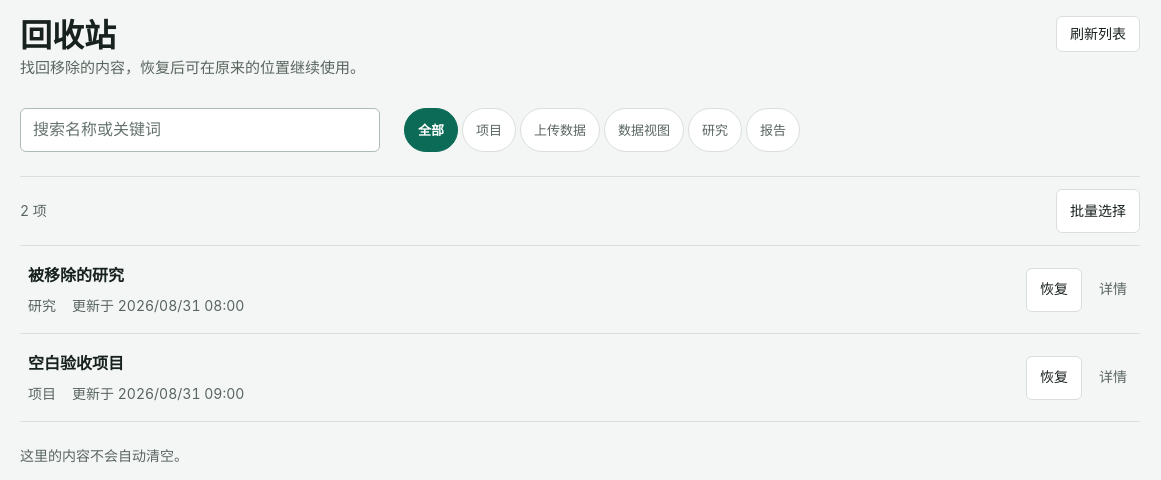
it: restores one exact record and keeps implementation detail out of the list
Step 1. Click the button "恢复" in the row of "2026/08/31 08:00" → [1054, 290], box [1026, 268, 1082, 312]
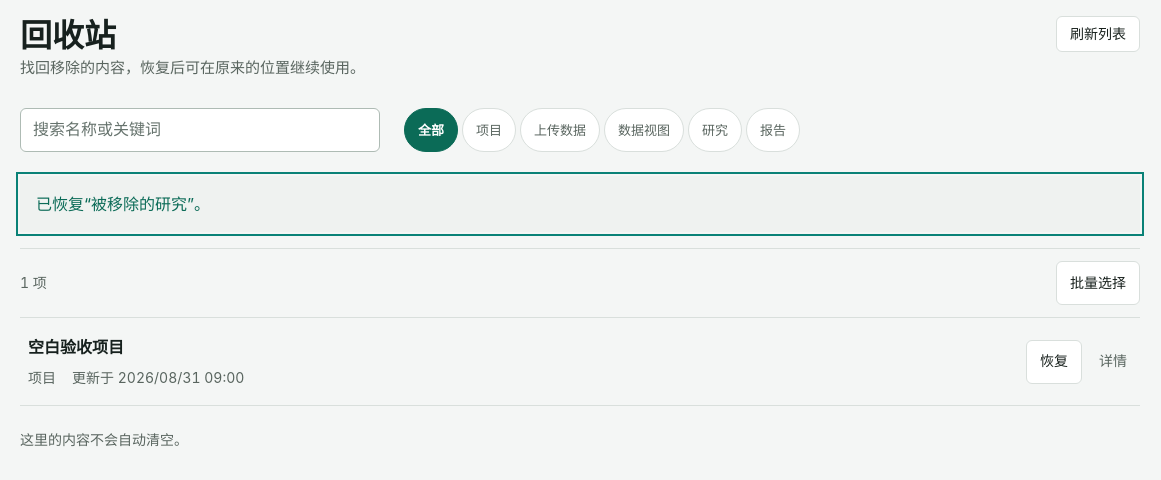
Result: the message reads "已恢复“被移除的研究”。" at [36, 194, 210, 214]
